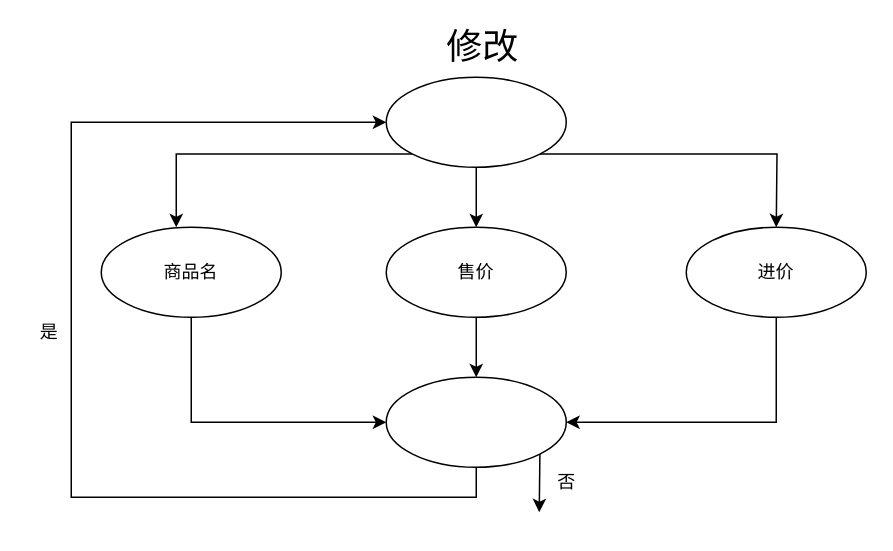
Some shapes in this 893 by 551 pixel diagram are drawn without their labels. The centre of each missing label's shape, as x and y in pixels:
是否继续修改: (x=475, y=421)
输入合理的商品号: (x=475, y=121)
